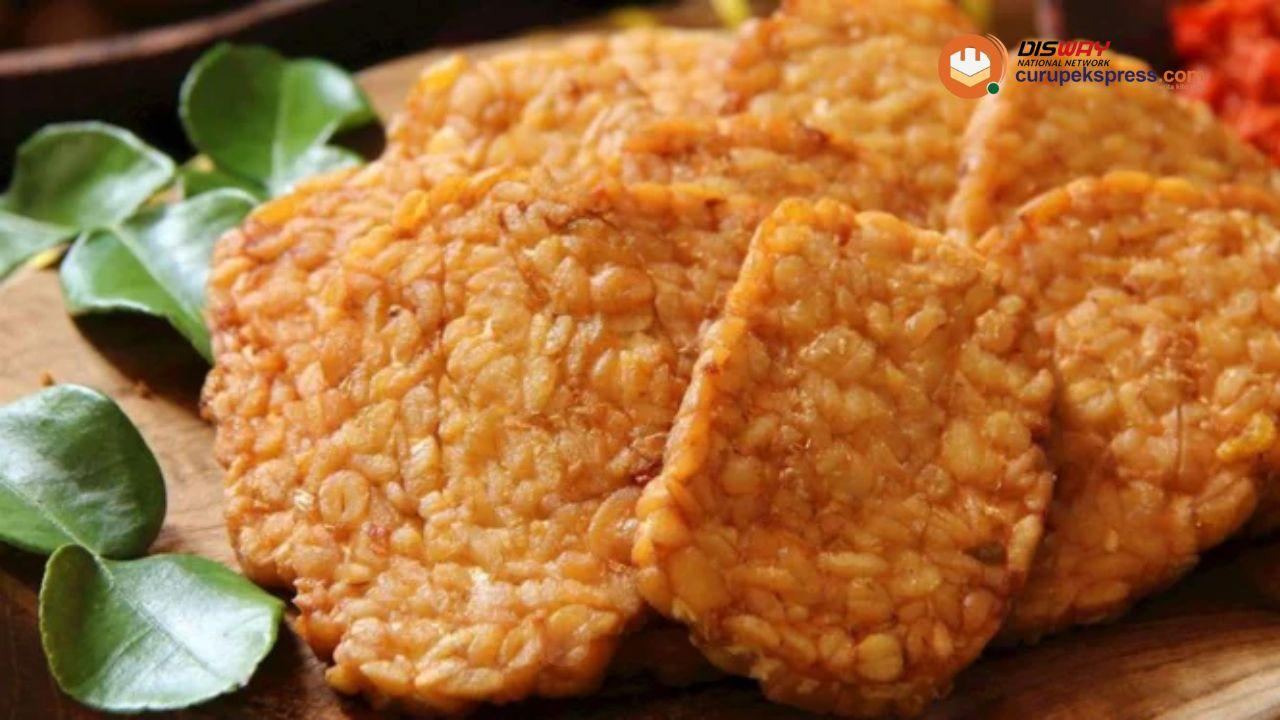kacang_legume: (307, 212, 608, 642), (752, 267, 1017, 580), (1060, 205, 1266, 470), (512, 57, 867, 206)
